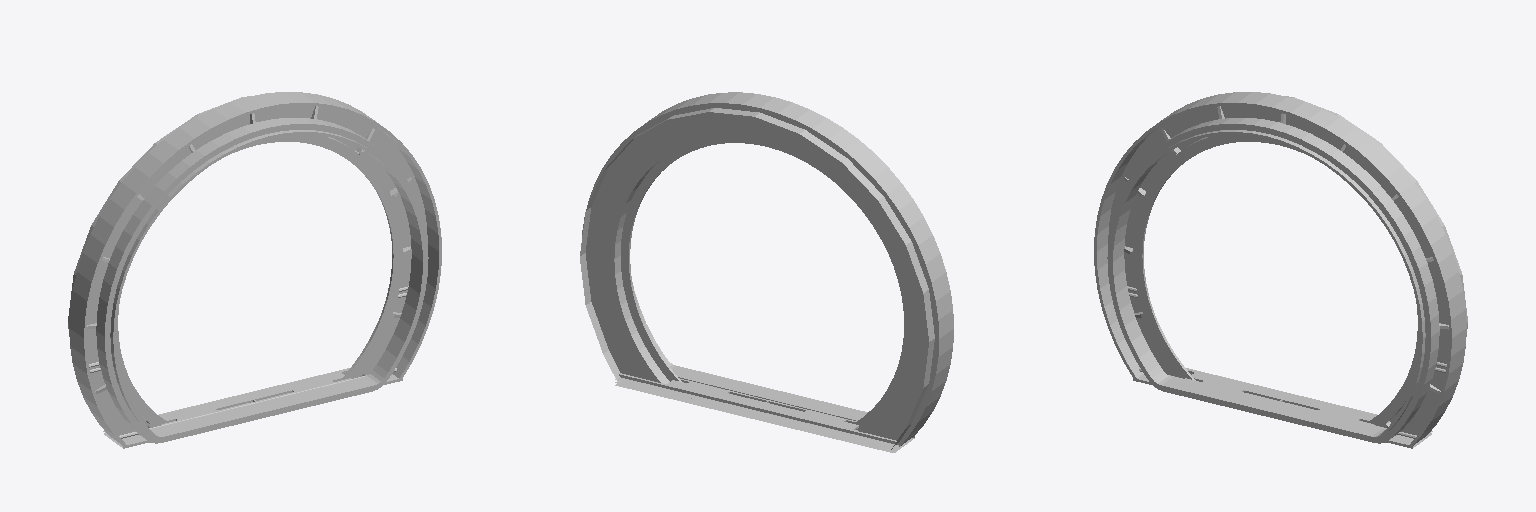
File: portaldoor_root.obj
The picture shows the model from 3 angles: view 1: azimuth 30°, elevation 25°; view 2: azimuth 150°, elevation 25°; view 3: azimuth 330°, elevation 25°; orthographic projection.
Parts seen in each view (by area): view 1: portal_door_model; view 2: portal_door_model; view 3: portal_door_model.
Part boxes in pixels (x1,y1,x2,y2): portal_door_model: (68,92,441,448); portal_door_model: (580,92,953,452); portal_door_model: (1094,92,1467,448).
Size of the model in its own units: 7.27 by 5.95 by 0.9495.